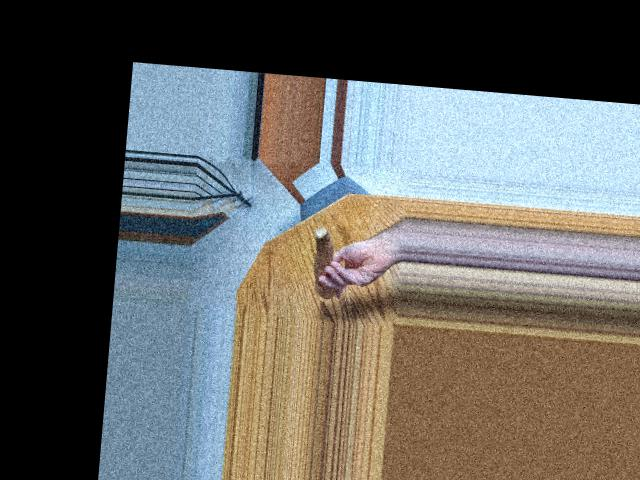sweet_potato: (310, 221, 338, 299)
